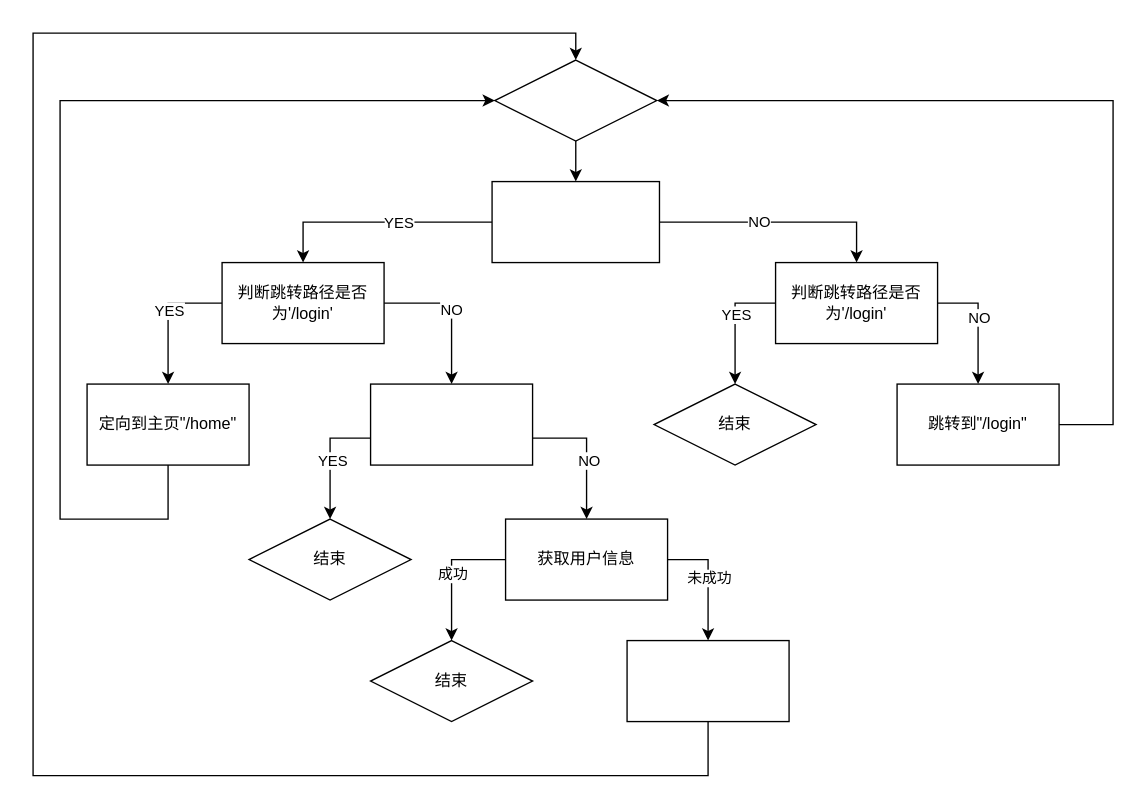
The diagram is 1148 pixels wide and 810 high, and some of its shapes have lost their labels. Here are the shapes that lost their labels. From the top down, the centre of each, then its label:
(x=575, y=100): 路由开始跳转
(x=575, y=221): 是否存在Token
(x=451, y=424): 是否有用户信息
(x=707, y=680): 跳转到"login"
